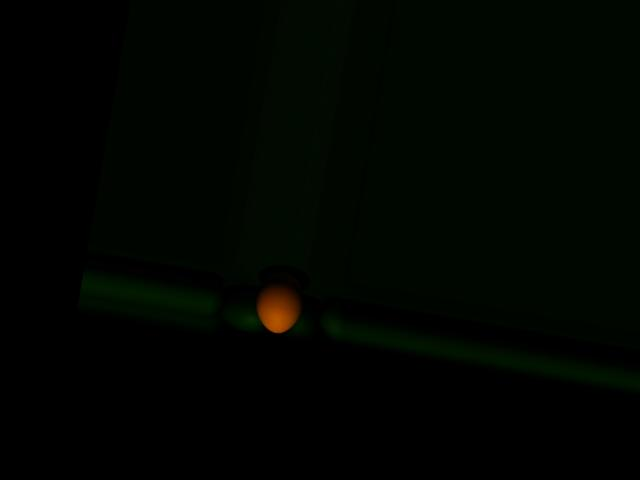egg: (250, 266, 308, 336)
